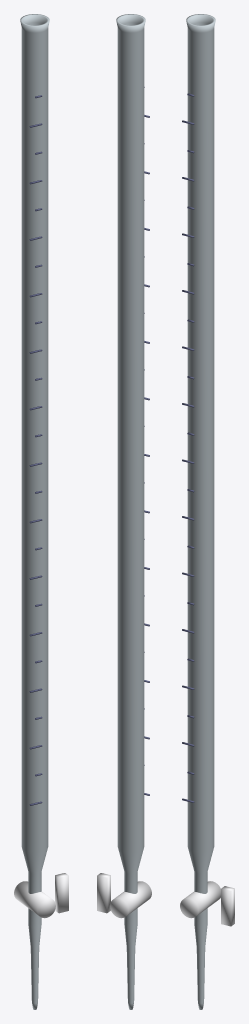
The model's file is bureta.glb.
3 renders of one model, left to right at view 1: azimuth 30°, elevation 25°; view 2: azimuth 150°, elevation 25°; view 3: azimuth 330°, elevation 25°, orthographic.
Parts seen in each view (by area): view 1: bureta_1, bureta_2, bureta_3; view 2: bureta_1, bureta_2, bureta_3; view 3: bureta_1, bureta_2, bureta_3.
Part boxes in pixels (box(x1,y1,x2,y2)): bureta_1: box(20, 14, 49, 1009); bureta_2: box(14, 873, 68, 918); bureta_3: box(29, 95, 42, 805); bureta_1: box(116, 14, 145, 1009); bureta_2: box(97, 873, 151, 918); bureta_3: box(144, 87, 149, 795); bureta_1: box(186, 14, 215, 1009); bureta_2: box(180, 881, 234, 926); bureta_3: box(182, 93, 194, 802).
Size of the model in its own units: 0.0266 by 0.56 by 0.024.
